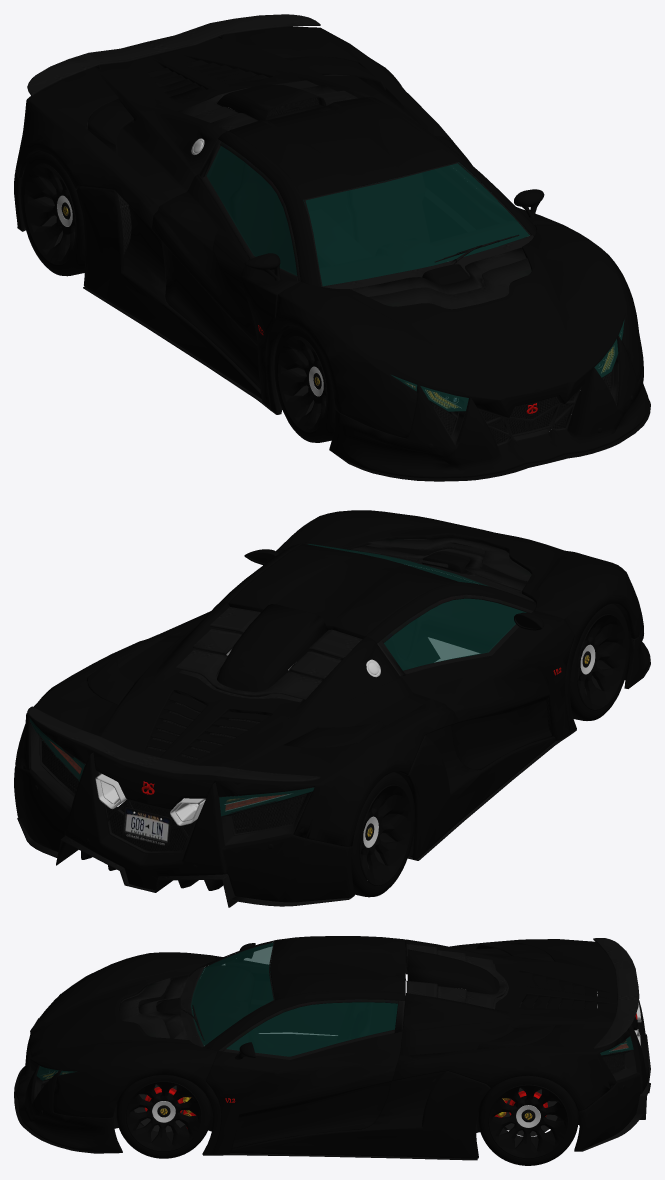
The model's file is v12-goblin-lod1.glb.
The picture shows the model from 3 angles, top to bottom: view 1: azimuth 30°, elevation 25°; view 2: azimuth 150°, elevation 25°; view 3: azimuth 270°, elevation 25°; orthographic projection. The views are drawn at different scales.
Parts seen in each view (by area): view 1: clearcoat, car_body, car_glass, car_wheel_BR, car_wheel_FR; view 2: clearcoat, car_body, car_glass, car_wheel_BR, car_wheel_FR; view 3: clearcoat, car_body, car_glass, car_wheel_BL, car_wheel_FL.
Part boxes in pixels (x1,y1,x2,y2): clearcoat: (14, 27, 649, 478); car_body: (15, 14, 650, 481); car_glass: (206, 146, 624, 411); car_wheel_BR: (20, 151, 85, 276); car_wheel_FR: (274, 325, 335, 442); clearcoat: (14, 510, 648, 902); car_body: (14, 536, 650, 907); car_glass: (30, 544, 526, 816); car_wheel_BR: (351, 772, 414, 897); car_wheel_FR: (570, 603, 629, 720); clearcoat: (15, 936, 648, 1158); car_body: (14, 938, 650, 1160); car_glass: (36, 942, 633, 1080); car_wheel_BL: (478, 1075, 578, 1165); car_wheel_FL: (116, 1075, 211, 1158).
Size of what is drawn, in the model's own units: 2.18 by 1.16 by 4.55.
4 materials, 1 textured.
